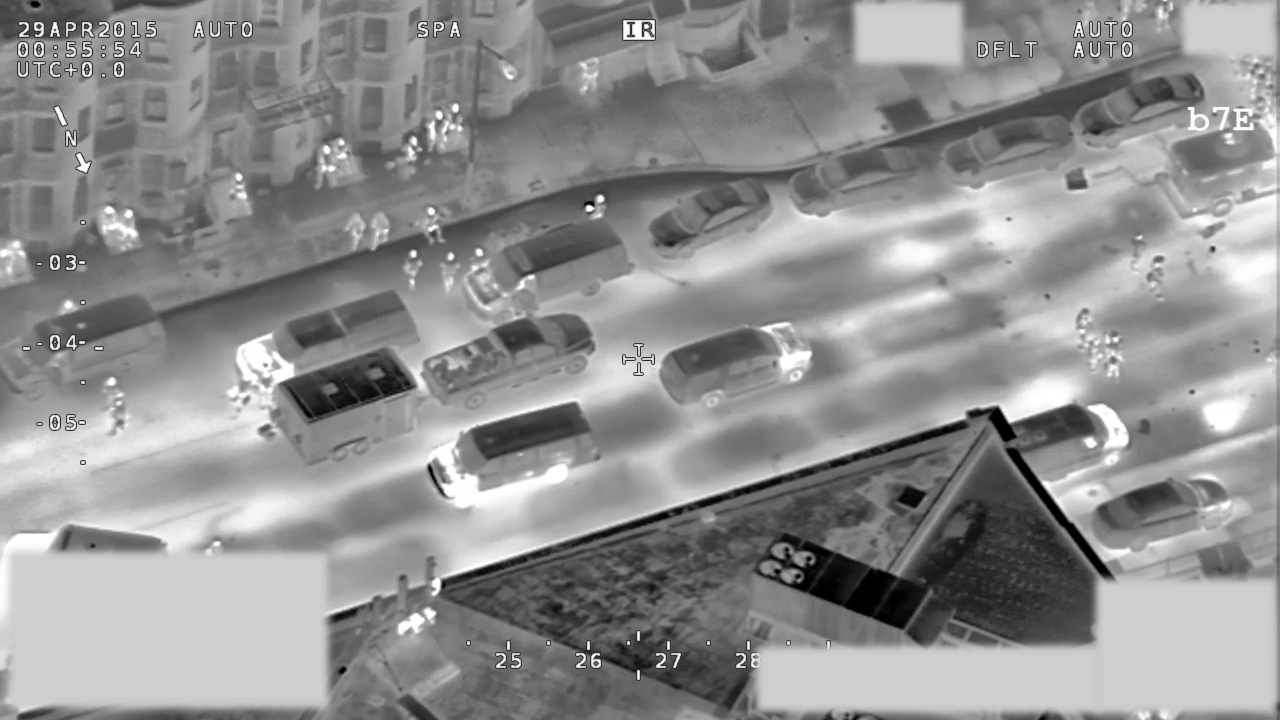vehicle: (451, 212, 641, 326), (233, 288, 425, 393), (425, 397, 602, 506), (416, 309, 597, 415), (1, 292, 173, 403), (269, 348, 421, 469), (658, 315, 815, 412), (1086, 469, 1238, 558), (999, 394, 1132, 483), (1072, 70, 1211, 153), (936, 114, 1079, 193), (786, 141, 927, 219), (648, 179, 773, 261)
